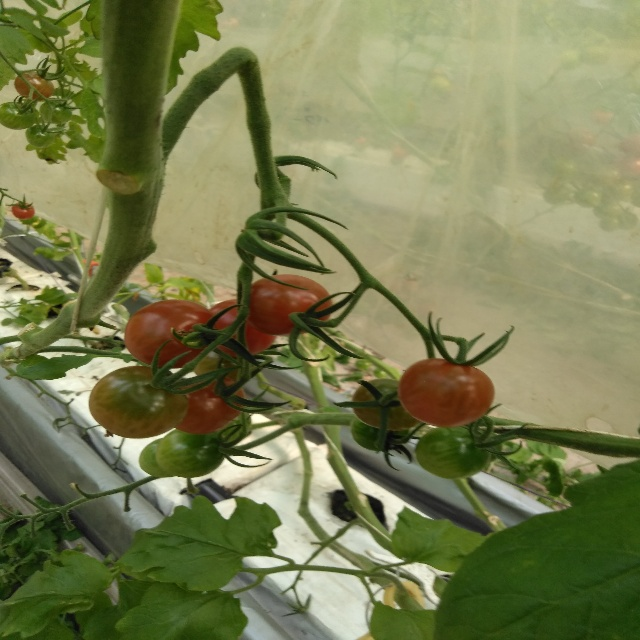l_fully_ripened: (122, 300, 212, 368), (242, 274, 335, 337), (174, 376, 245, 434), (210, 299, 277, 359), (11, 202, 35, 220)
l_green: (415, 423, 492, 477), (157, 428, 229, 478), (185, 341, 255, 381), (350, 417, 412, 451), (139, 437, 178, 477), (218, 409, 251, 445), (0, 102, 37, 130), (38, 100, 73, 124), (25, 124, 56, 148)
l_half_ripened: (89, 365, 187, 439), (398, 358, 495, 428), (353, 378, 420, 430), (14, 71, 54, 101)
